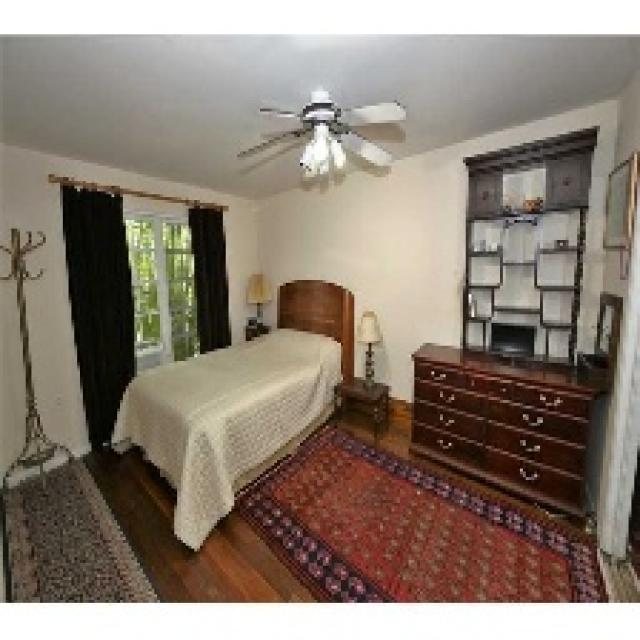Bed: (109, 277, 354, 552)
